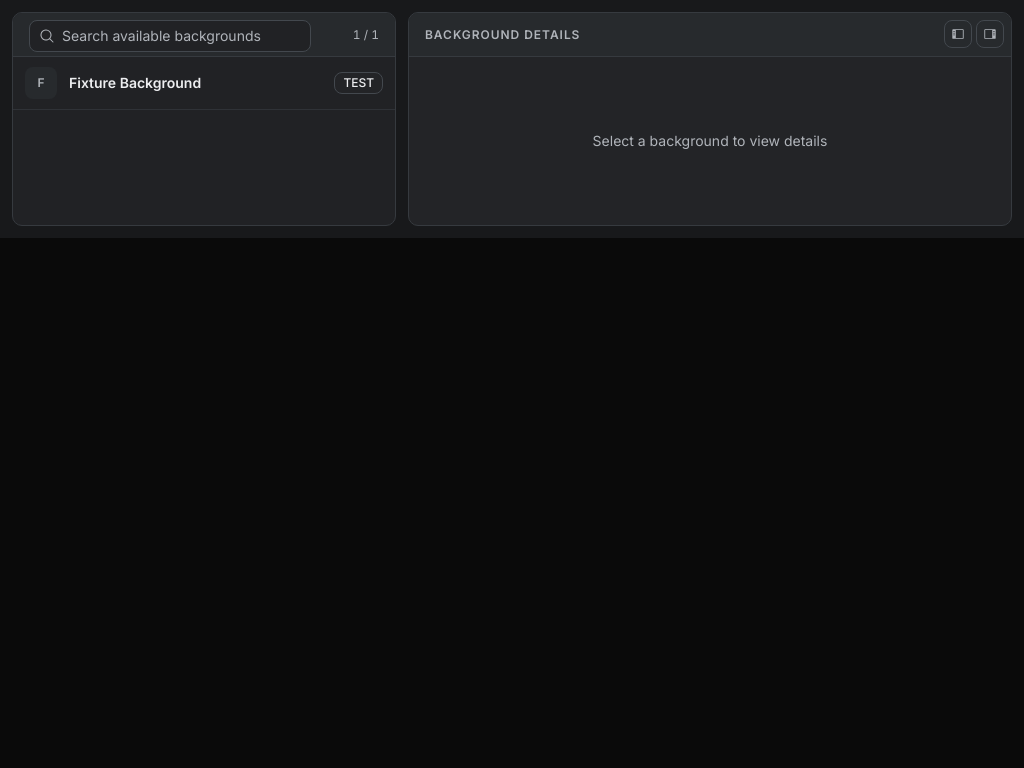
Test: BackgroundPage › explains an unqualified fixed grant even when its unique feat printing is loaded
Click the button "F Fixture Background". click: (174, 83)
box: [25,67,322,99]
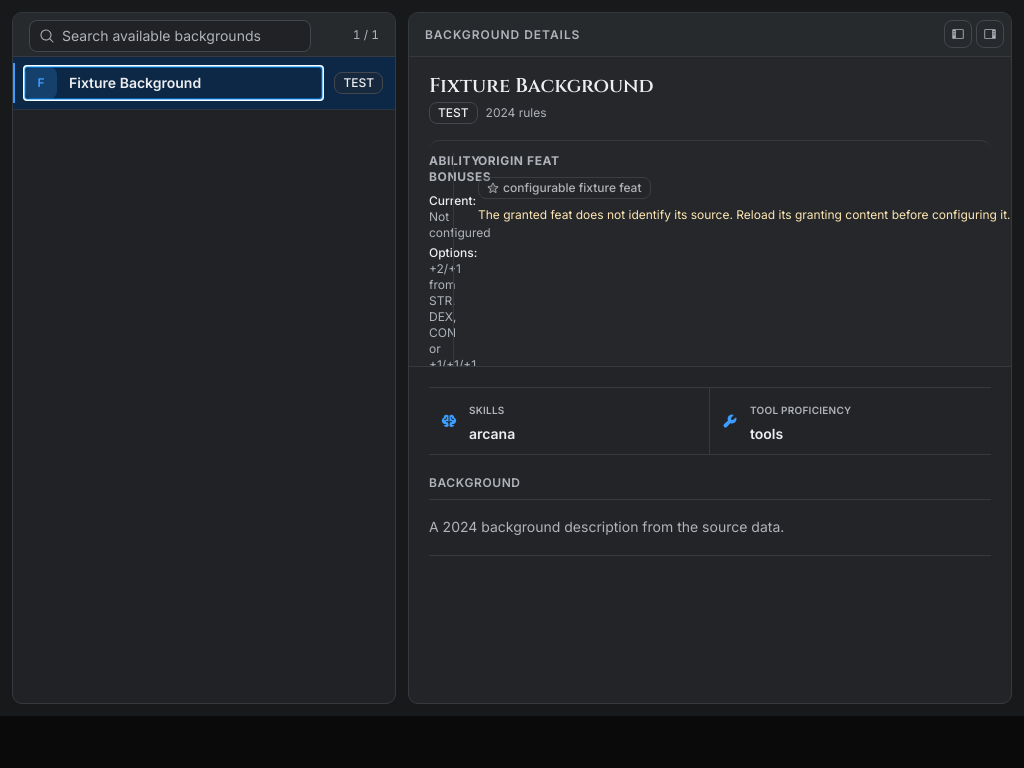
Expected: the text "The granted feat does not identify its source. Reload its granting content before configuring it." is shown, [478,207,1011,222]
